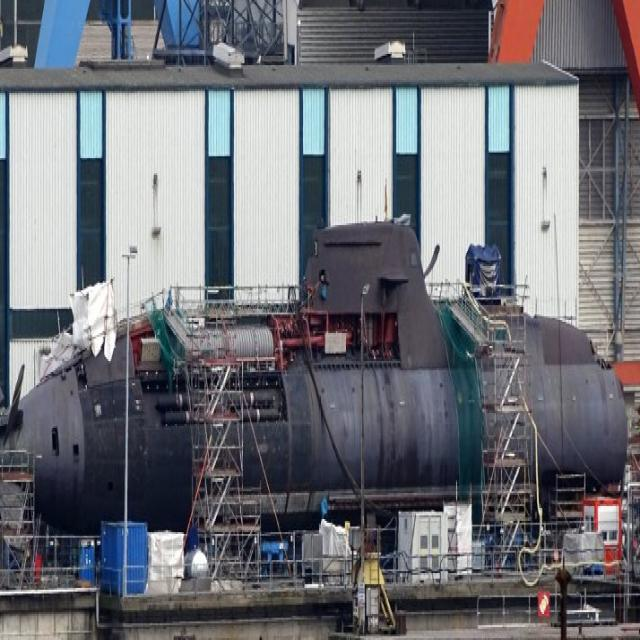submarine: (1, 214, 638, 490)
